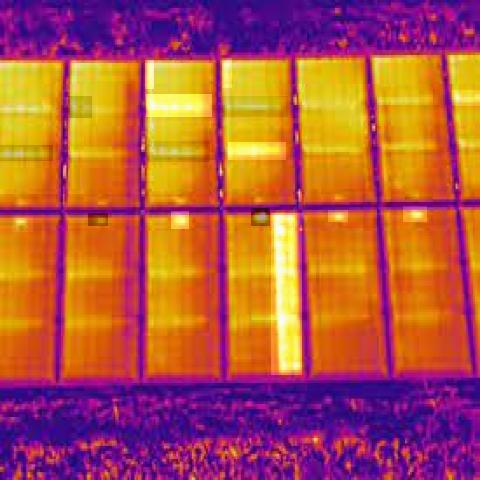fault: (271, 213, 302, 375), (146, 94, 212, 117), (222, 96, 288, 117), (148, 141, 210, 162), (228, 142, 286, 160), (0, 145, 53, 161), (0, 101, 54, 116), (68, 96, 92, 118), (451, 90, 480, 106), (403, 206, 427, 222), (251, 208, 270, 226), (12, 216, 33, 232), (171, 211, 189, 229), (222, 58, 232, 88), (145, 60, 154, 89), (88, 213, 108, 226), (328, 210, 348, 222)
